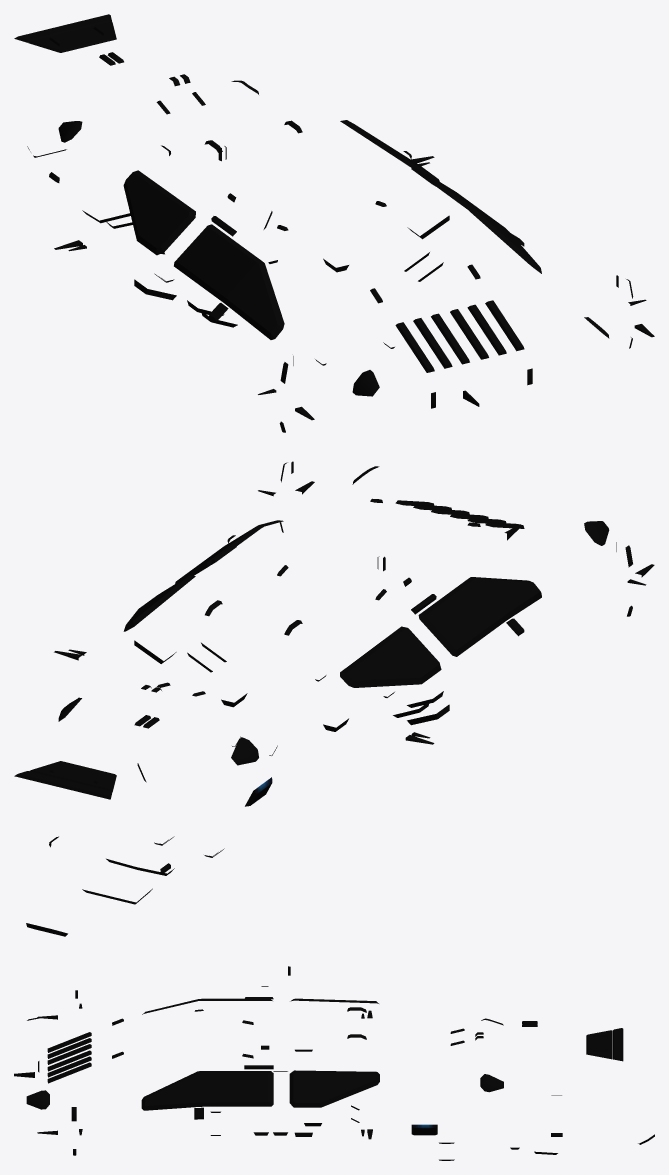
File: hgn_cf_torp_01_t5.glb
3 renders of one model, top to bottom at view 1: azimuth 30°, elevation 25°; view 2: azimuth 150°, elevation 25°; view 3: azimuth 270°, elevation 25°, orthographic. The views are drawn at different scales.
Visible parts, largest first — view 1: hgn_torpedo_frigate_01_t5_LOD0; view 2: hgn_torpedo_frigate_01_t5_LOD0; view 3: hgn_torpedo_frigate_01_t5_LOD0.
Boxes of the visible parts, <box> form: hgn_torpedo_frigate_01_t5_LOD0: <box>14,14,654,432</box>; hgn_torpedo_frigate_01_t5_LOD0: <box>14,461,654,936</box>; hgn_torpedo_frigate_01_t5_LOD0: <box>14,966,654,1160</box>.
Size of what is drawn, in the model's own units: 1.4 by 0.7882 by 2.87.
1 material, 1 textured.
